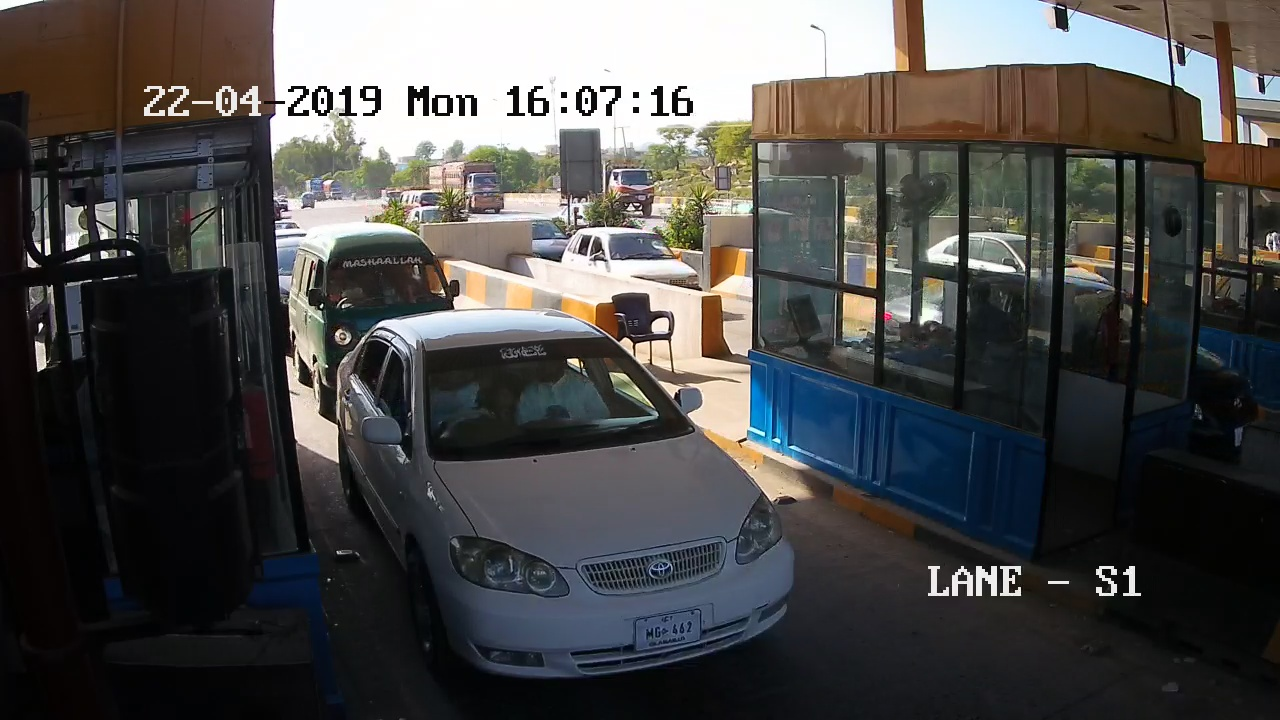Number Plate (Car): (633, 613, 701, 647)
